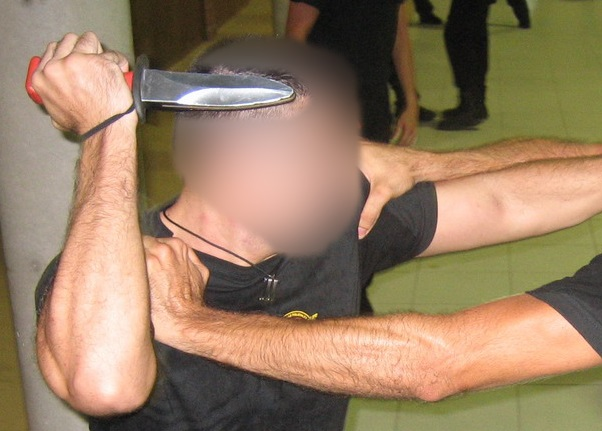knife: (16, 25, 308, 122)
